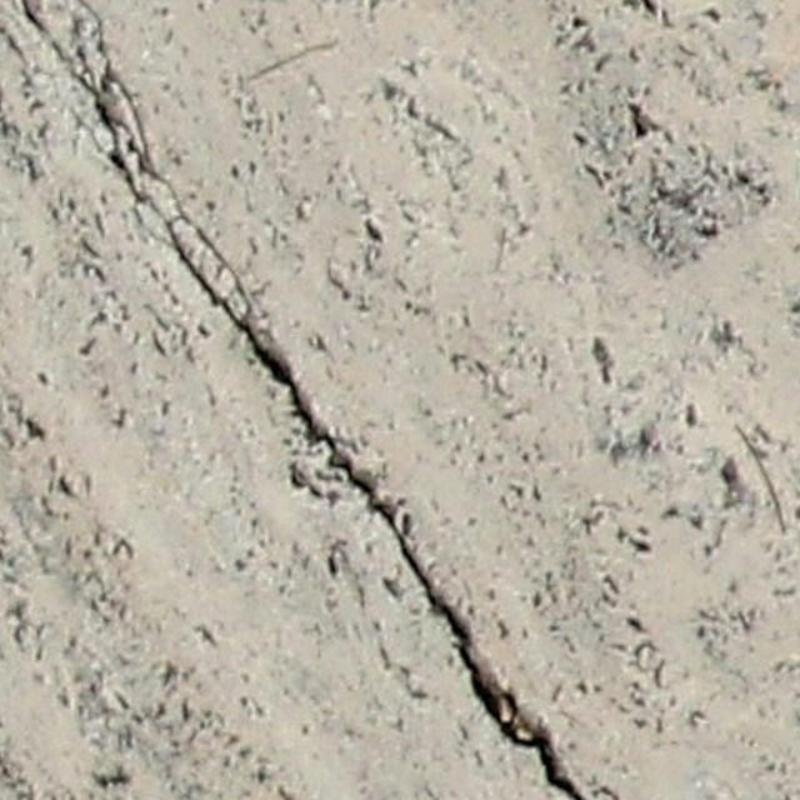pothole: (0, 0, 591, 800)
